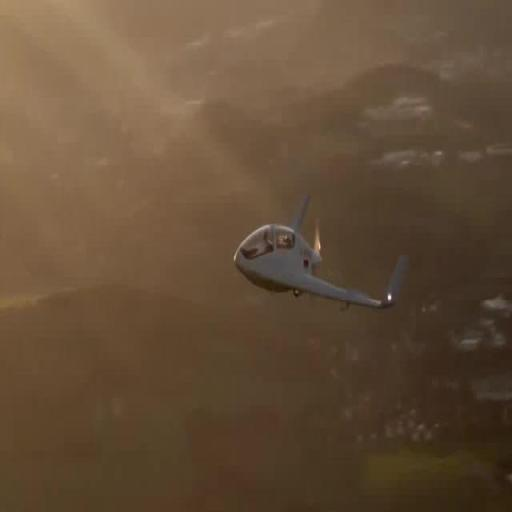uav: (234, 192, 412, 334)
